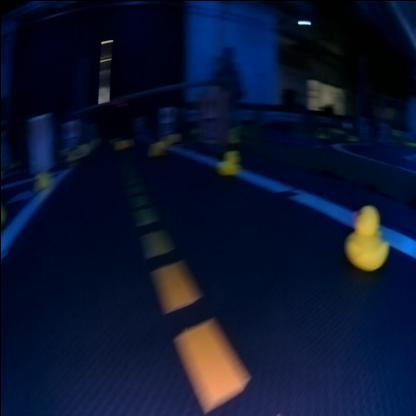Duckie: (342, 204, 387, 268), (215, 148, 237, 174), (33, 170, 50, 186), (150, 140, 162, 154), (115, 136, 129, 148)
